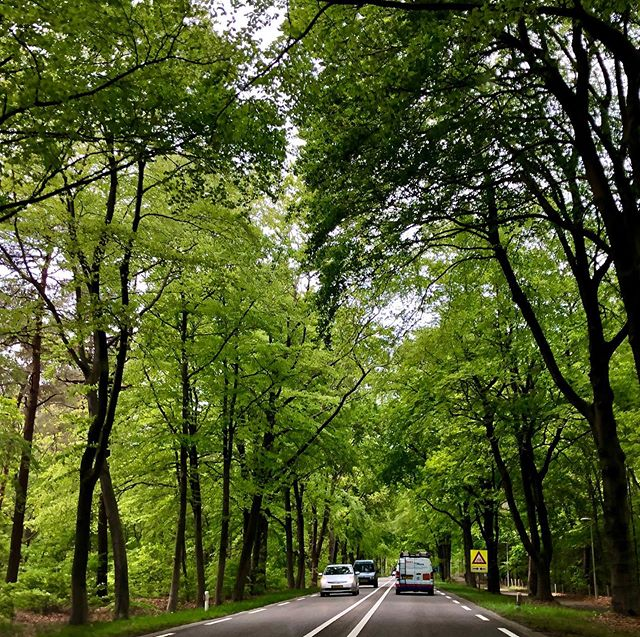car: (393, 550, 441, 598), (313, 562, 360, 596), (359, 562, 384, 589)
road: (148, 580, 546, 634)
sign: (463, 547, 492, 579)
tree: (262, 1, 638, 616), (1, 1, 182, 603), (134, 202, 232, 606), (460, 300, 593, 586), (198, 217, 296, 588)
